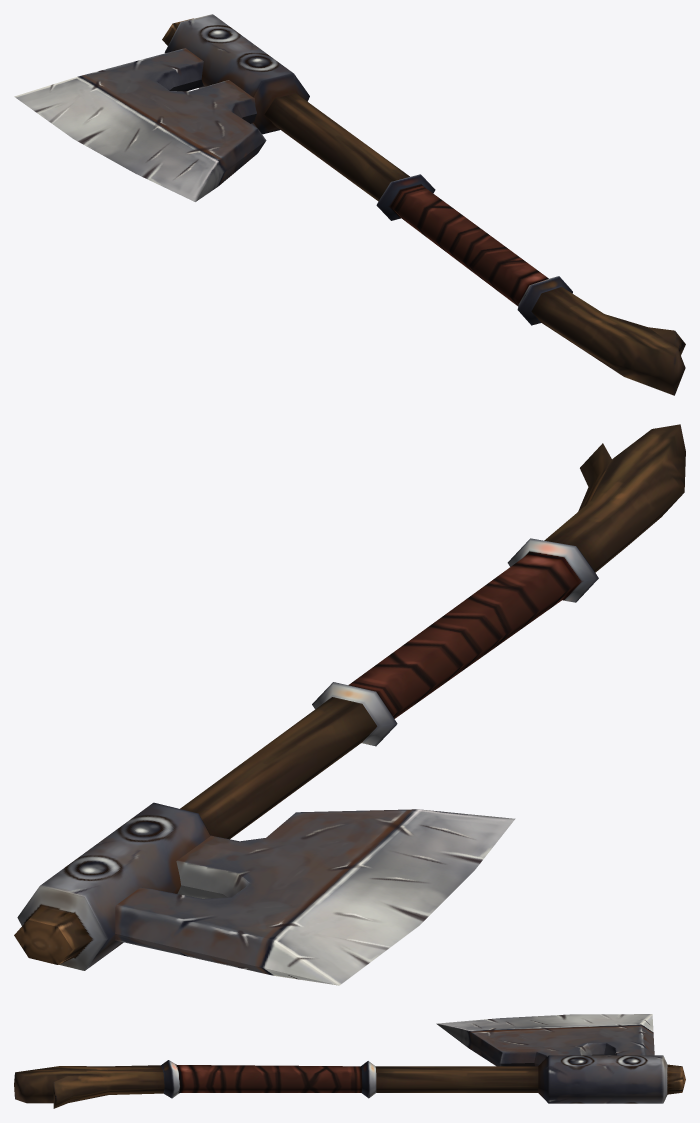
Rendered from Axe_10.fbx.
3 views of the same model, one above another, from view 1: azimuth 30°, elevation 25°; view 2: azimuth 150°, elevation 25°; view 3: azimuth 270°, elevation 25° (orthographic). The views are drawn at different scales.
Parts seen in each view (by area): view 1: Axe_10_El1, Axe_10_El2; view 2: Axe_10_El1, Axe_10_El2; view 3: Axe_10_El2, Axe_10_El1.
Boxes of the visible parts, x1,y1,x2,y2 form: Axe_10_El1: (14,14,309,201); Axe_10_El2: (264,93,685,395); Axe_10_El1: (14,802,515,985); Axe_10_El2: (180,424,685,839); Axe_10_El2: (14,1060,538,1108); Axe_10_El1: (436,1014,685,1103).
Size of the model in its own units: 0.4033 by 0.0818 by 1.33.
